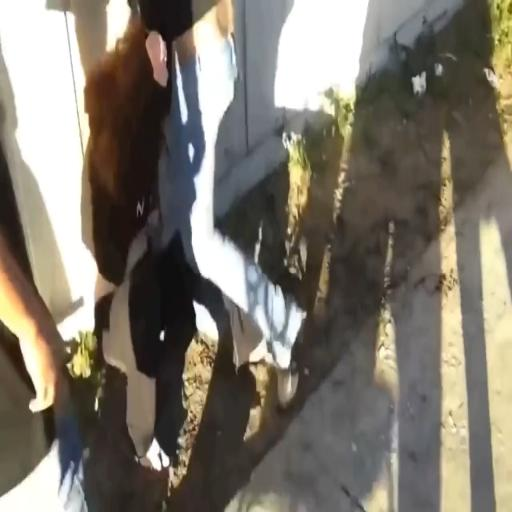violencia: (51, 0, 325, 489)
